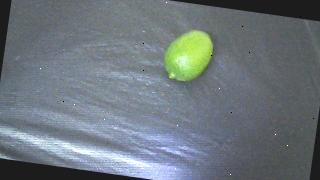LOCAL: (161, 27, 215, 85)
